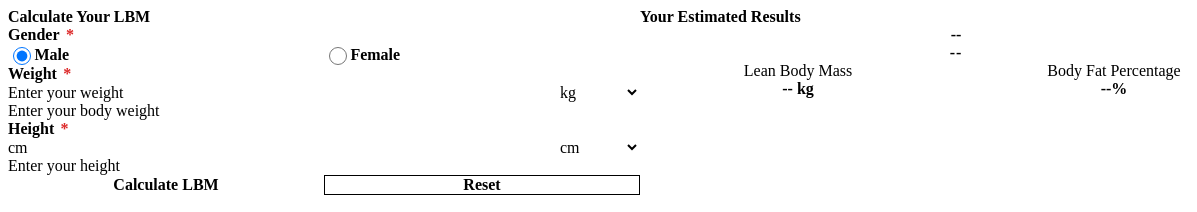
Test: LeanBodyMassCalculator › converts imperial height and weight end-to-end
The width and height of the screenshot is (1197, 212).
Type "176" into the number field labelled "weight" at (282,93), box [8,83,556,102]
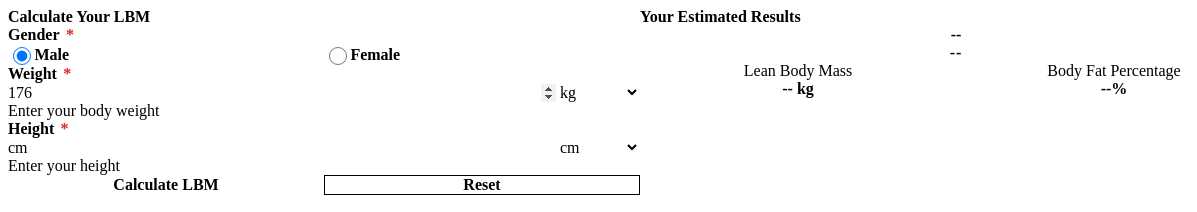
Select "lbs" in the dropdown named "Weight unit" at (598,93), box [556,83,640,102]
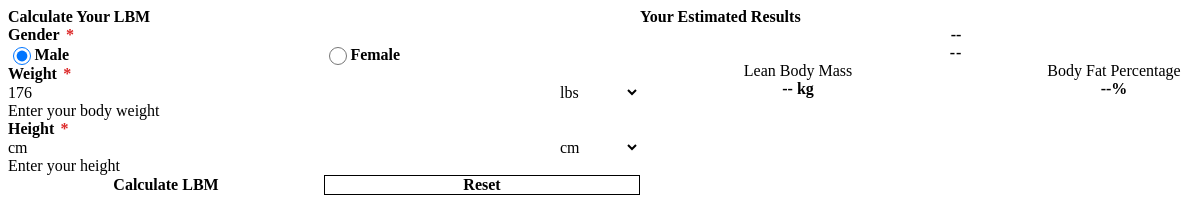
Select "ft" in the dropdown named "Height unit" at (598,148), box [556,138,640,157]
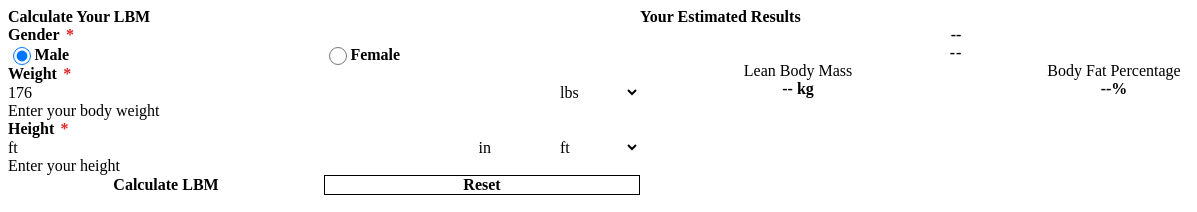
Type "5" into the number field named "Feet" at (243,148), box [8,138,479,157]
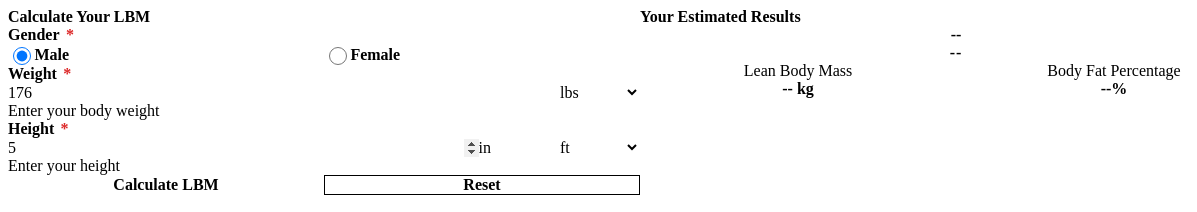
Type "11" into the number field named "Inches" at (517,148), box [479,138,556,157]
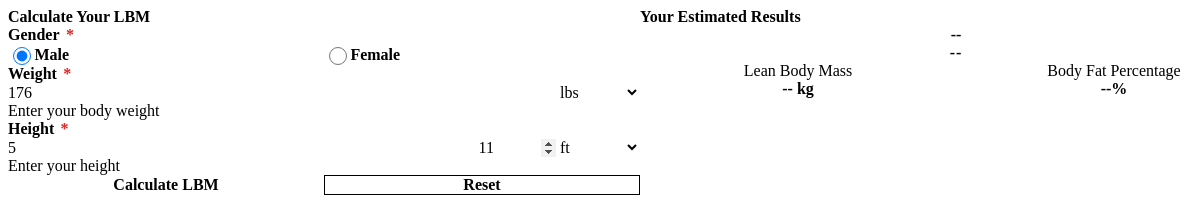
Click the button "Calculate LBM" at (166,185), box [8,175,324,195]
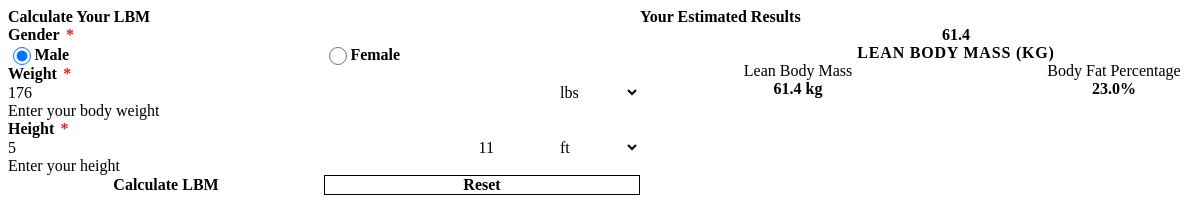
Check: the element "Your Estimated Results" shows "61.4 kg", box [774,80,822,97]
